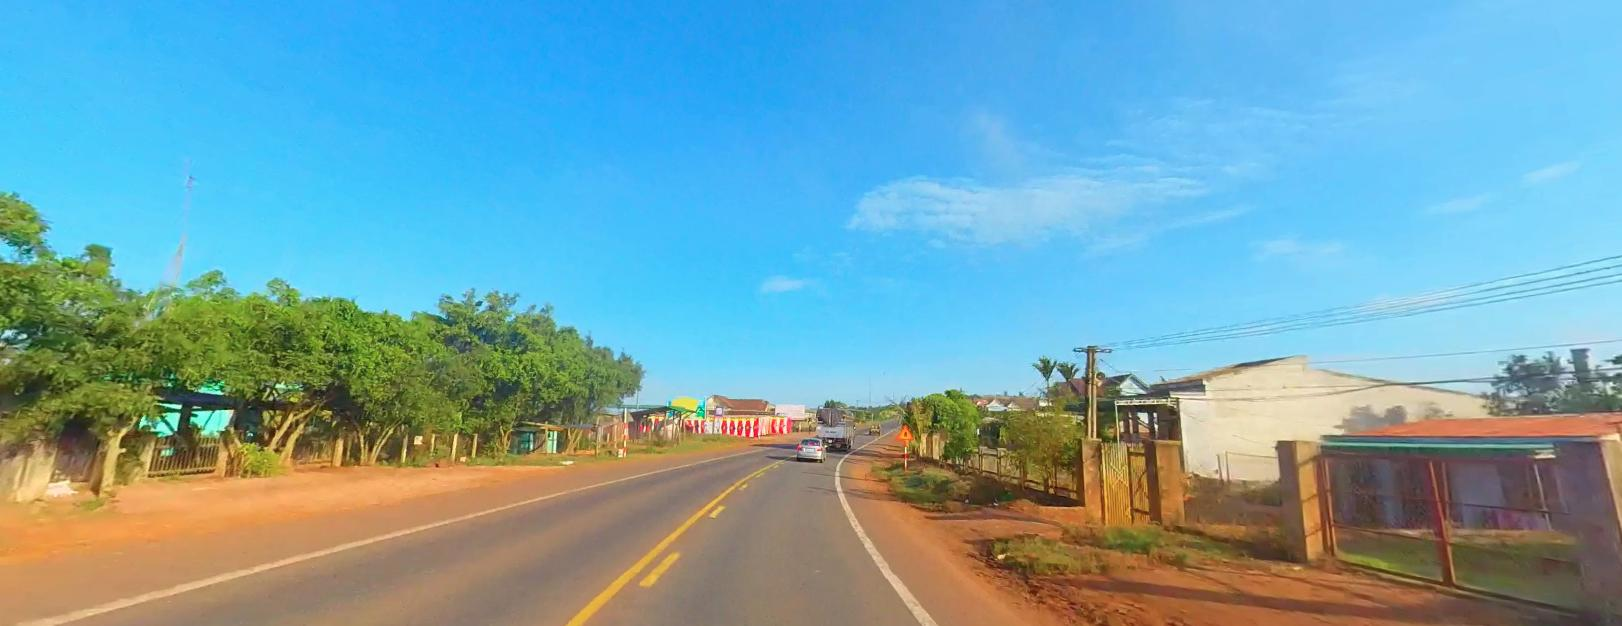Nguy hiem: (894, 422, 914, 441)
